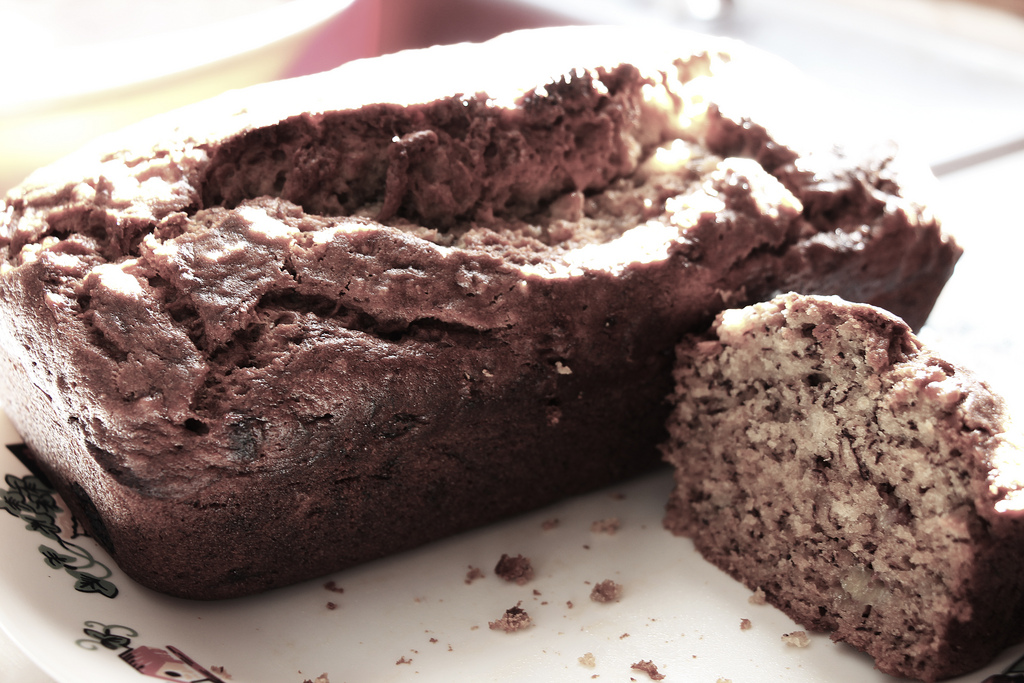slice of bread: (1, 67, 949, 552), (675, 299, 1014, 683)
